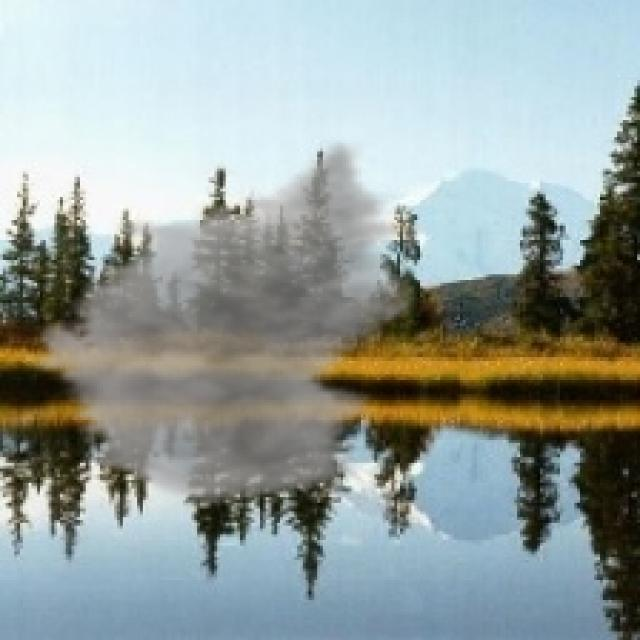Smoke: (23, 137, 426, 509)
